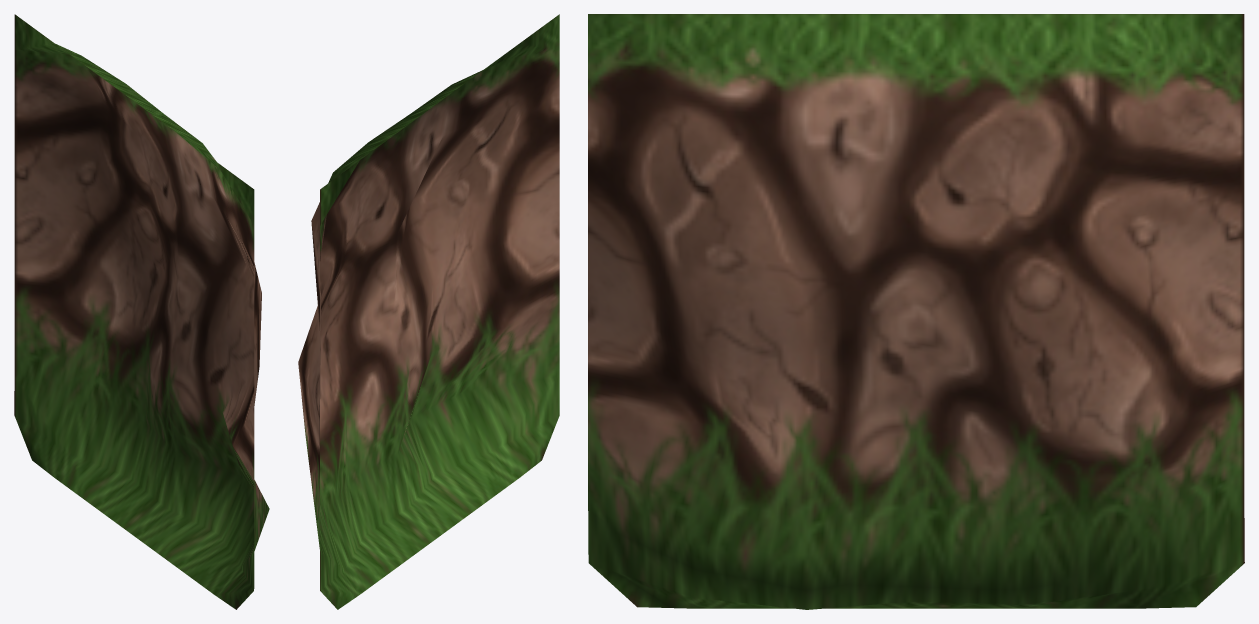
Rendered from bloc_extremite_miroir.FBX.
3 views of the same model, side by side, from view 1: azimuth 30°, elevation 25°; view 2: azimuth 150°, elevation 25°; view 3: azimuth 270°, elevation 25° (orthographic). The views are drawn at different scales.
Visible parts, largest first — view 1: Object006; view 2: Object006; view 3: Object006.
Boxes of the visible parts, <box> form: Object006: <box>14,14,269,609</box>; Object006: <box>298,14,559,609</box>; Object006: <box>588,14,1244,609</box>.
Bounding box in the file's own units: 16.57 × 100 × 100.
